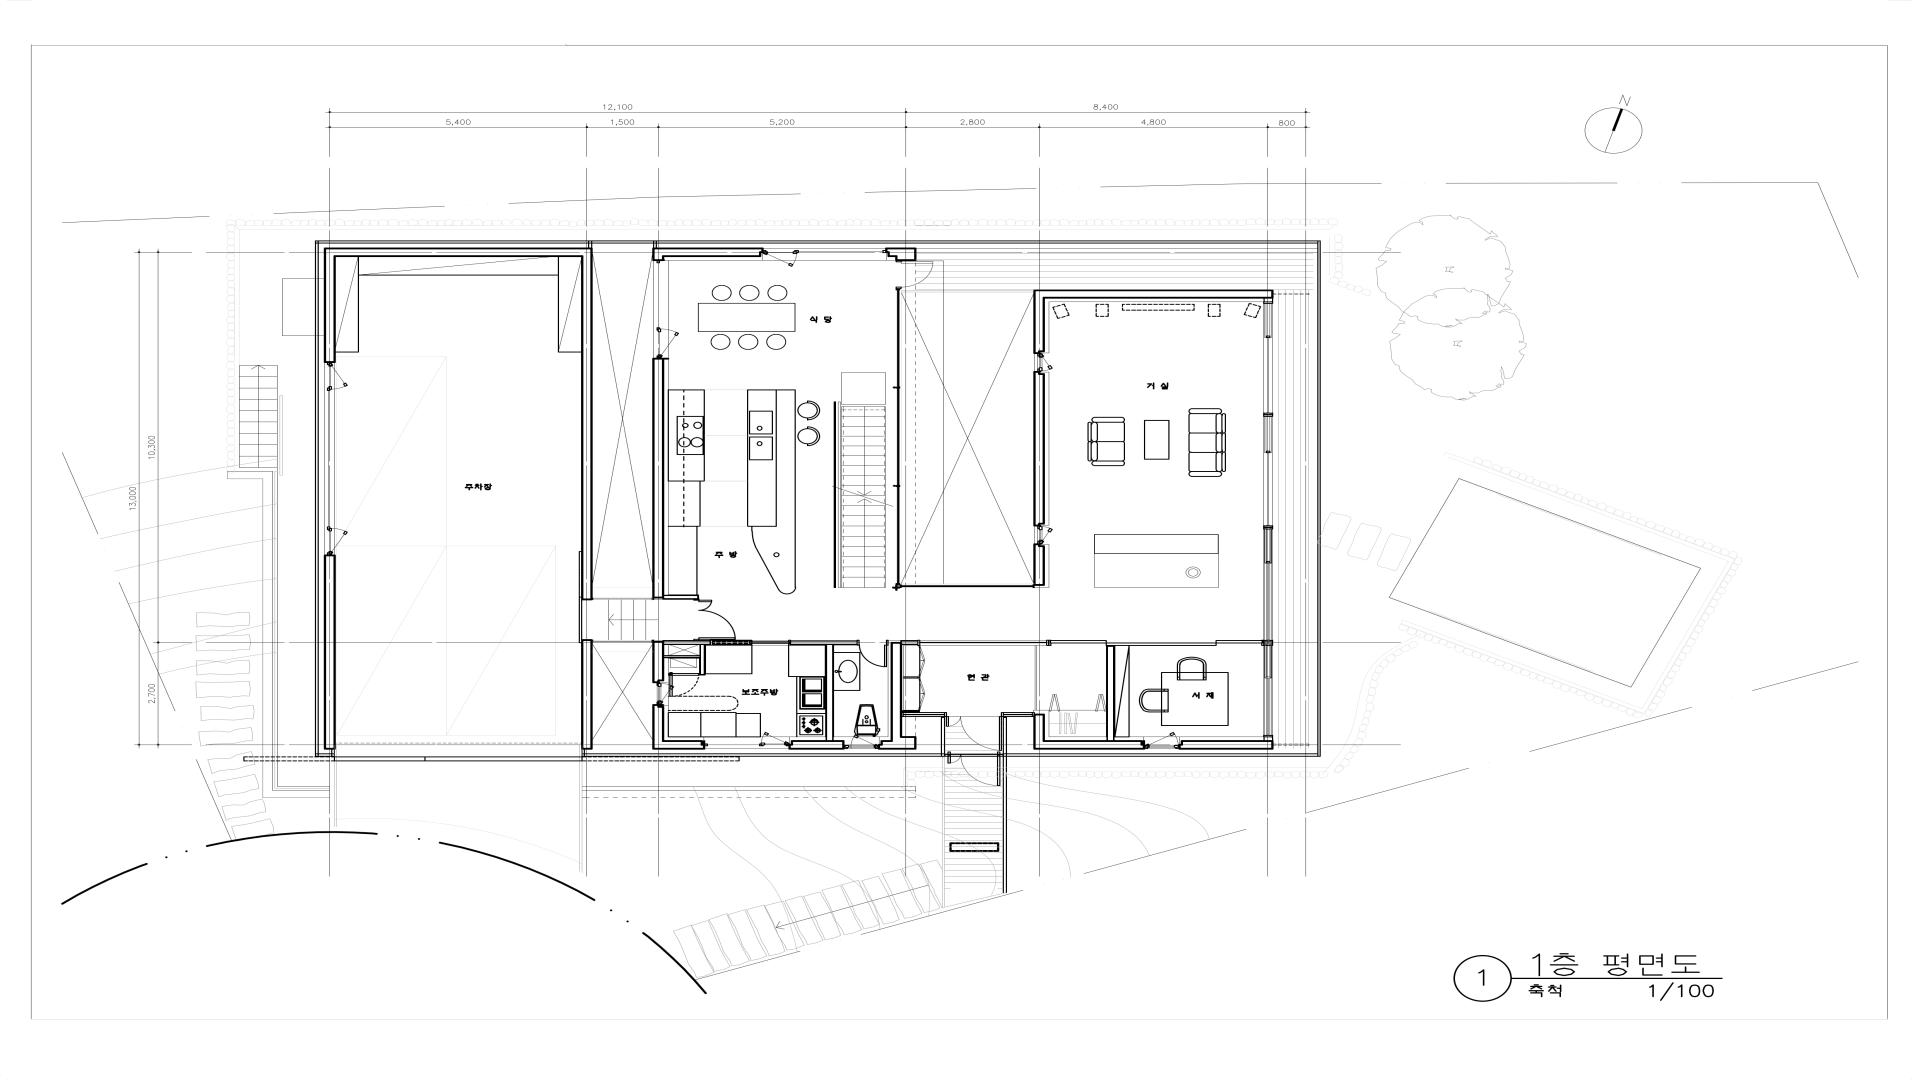door: (944, 712, 1003, 751), (693, 600, 736, 640), (895, 261, 933, 288), (857, 640, 888, 667), (917, 640, 1051, 646), (668, 673, 699, 697), (711, 640, 791, 646), (581, 600, 593, 639)
wall: (581, 257, 593, 600), (652, 358, 664, 600), (324, 248, 593, 257), (1033, 289, 1274, 299), (324, 555, 336, 750), (895, 288, 902, 584), (1033, 372, 1045, 526), (652, 247, 762, 261), (581, 639, 593, 750), (324, 257, 336, 363), (1033, 740, 1144, 750), (891, 643, 902, 736), (1180, 740, 1273, 750), (825, 645, 834, 740), (1106, 646, 1115, 740), (1106, 640, 1216, 646), (1033, 299, 1045, 353), (788, 740, 845, 750), (896, 584, 1033, 588), (878, 736, 917, 750), (652, 740, 705, 750), (652, 640, 664, 683), (1033, 544, 1045, 586), (652, 705, 664, 740), (791, 640, 857, 646), (886, 248, 916, 261), (1033, 714, 1045, 740), (1216, 640, 1263, 646), (664, 640, 711, 645), (902, 712, 944, 717), (699, 645, 706, 675), (664, 595, 699, 600), (1051, 640, 1106, 643), (1003, 712, 1033, 717), (664, 655, 699, 659), (902, 640, 917, 645), (888, 640, 902, 643), (1263, 737, 1273, 740), (1263, 299, 1273, 301)
window: (325, 363, 348, 555), (1263, 301, 1273, 737), (653, 261, 679, 358), (762, 247, 887, 267), (705, 732, 788, 750), (1144, 732, 1180, 750), (656, 682, 674, 705), (1033, 353, 1052, 372), (1033, 526, 1052, 544)
